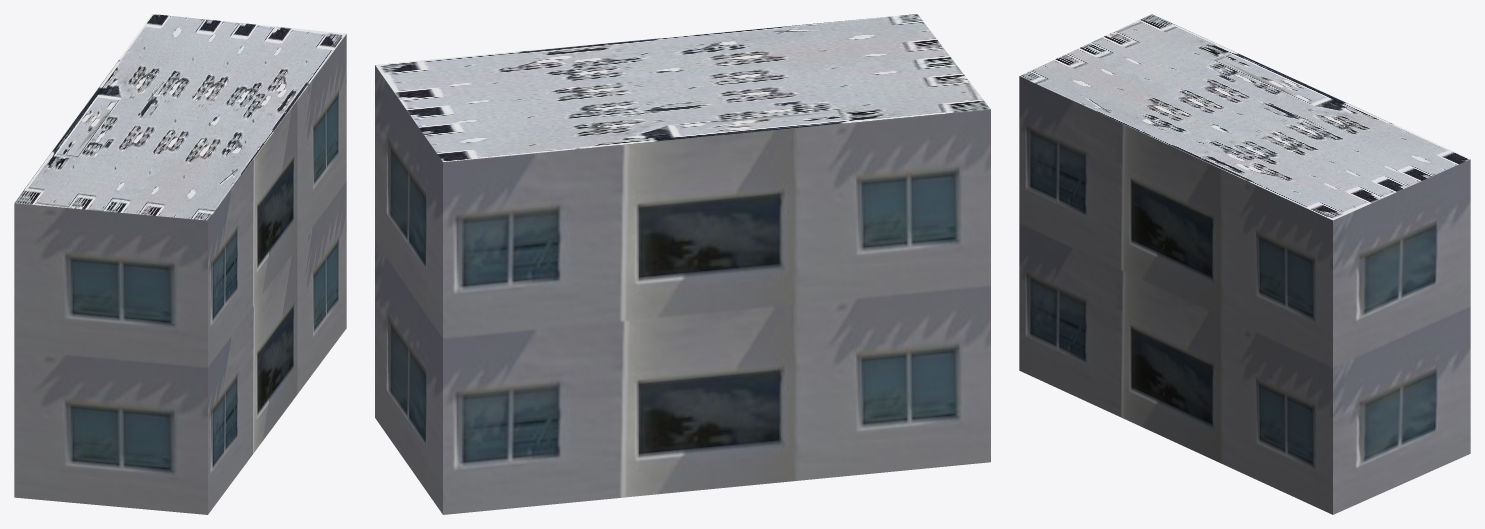
Rendered from ResTex__1641.fbx.
3 renders of one model, left to right at view 1: azimuth 30°, elevation 25°; view 2: azimuth 150°, elevation 25°; view 3: azimuth 270°, elevation 25°, orthographic. The views are drawn at different scales.
Visible parts, largest first — view 1: CityEngineMaterial_10_m, CityEngineMaterial_8_m; view 2: CityEngineMaterial_10_m, CityEngineMaterial_8_m; view 3: CityEngineMaterial_10_m, CityEngineMaterial_8_m.
Boxes of the visible parts, <box> form: CityEngineMaterial_10_m: <box>14,34,346,514</box>; CityEngineMaterial_8_m: <box>14,14,346,220</box>; CityEngineMaterial_10_m: <box>375,65,990,514</box>; CityEngineMaterial_8_m: <box>375,14,990,161</box>; CityEngineMaterial_10_m: <box>1019,76,1470,514</box>; CityEngineMaterial_8_m: <box>1019,14,1470,220</box>.
Bounding box in the file's own units: 9.03 × 6 × 8.33.
Materials: 2 (2 with a texture image).
